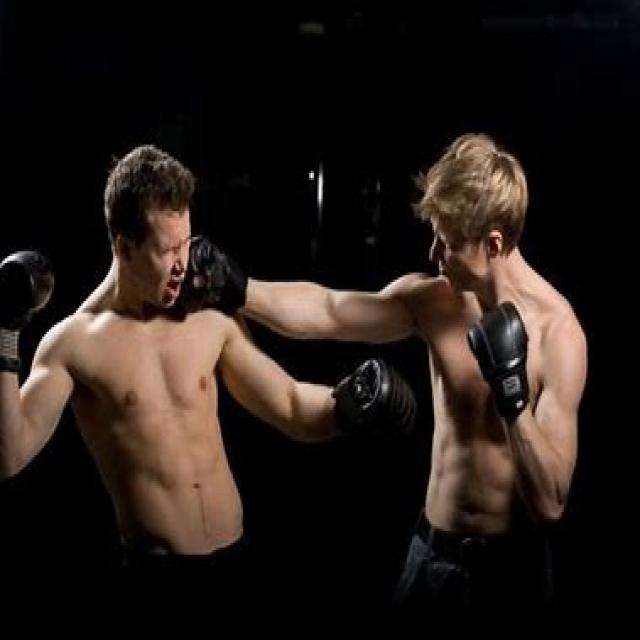fight: (39, 90, 594, 516)
